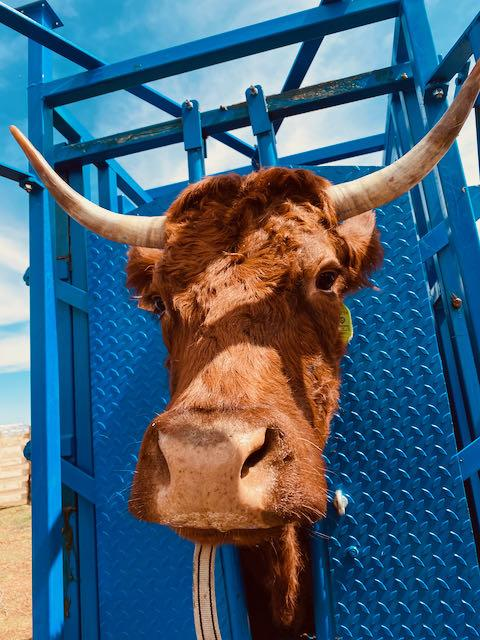muzzles: (116, 421, 344, 543)
